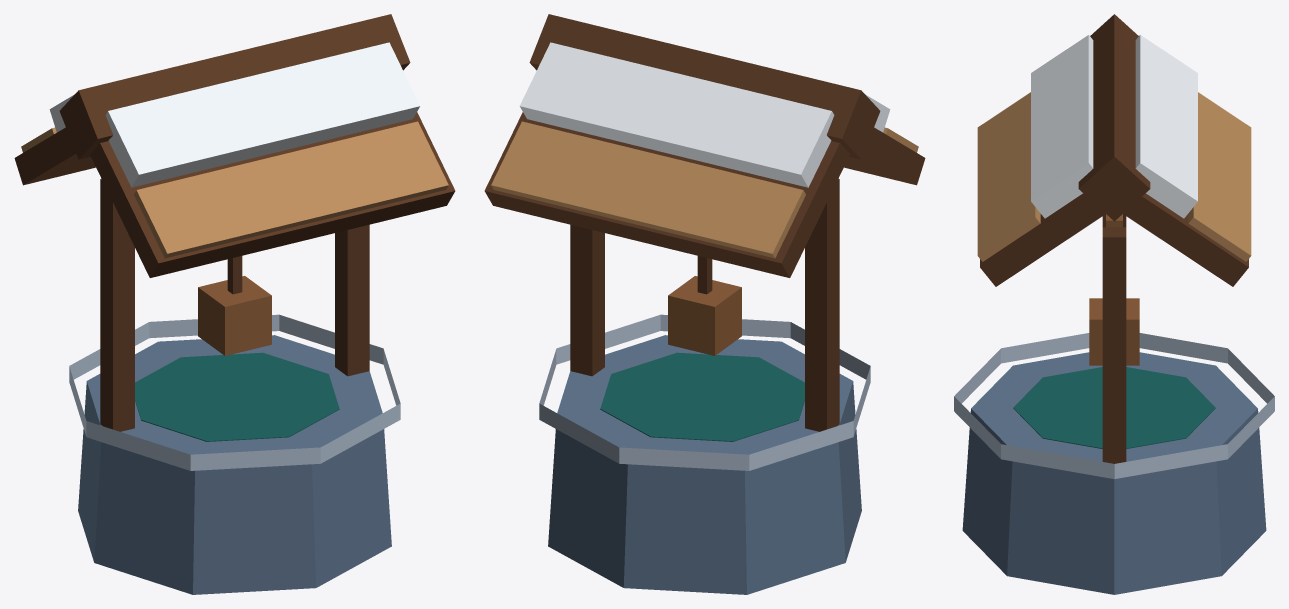
File: prop_well.glb
The picture shows the model from 3 angles, left to right: view 1: azimuth 30°, elevation 25°; view 2: azimuth 150°, elevation 25°; view 3: azimuth 270°, elevation 25°; orthographic projection. The views are drawn at different scales.
Parts seen in each view (by area): view 1: prop_well; view 2: prop_well; view 3: prop_well.
Part boxes in pixels (left/top/right/bottom): prop_well: left=14, top=14, right=455, bottom=594; prop_well: left=484, top=14, right=925, bottom=594; prop_well: left=954, top=14, right=1274, bottom=594.
Bounding box in the file's own units: 2 × 2.91 × 1.9.
Materials: 1 (1 with a texture image).
